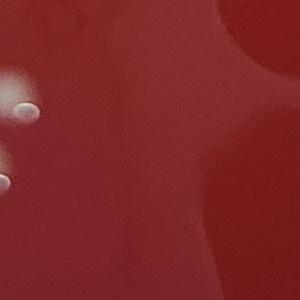colony: (0, 52, 46, 137), (0, 133, 25, 207)
